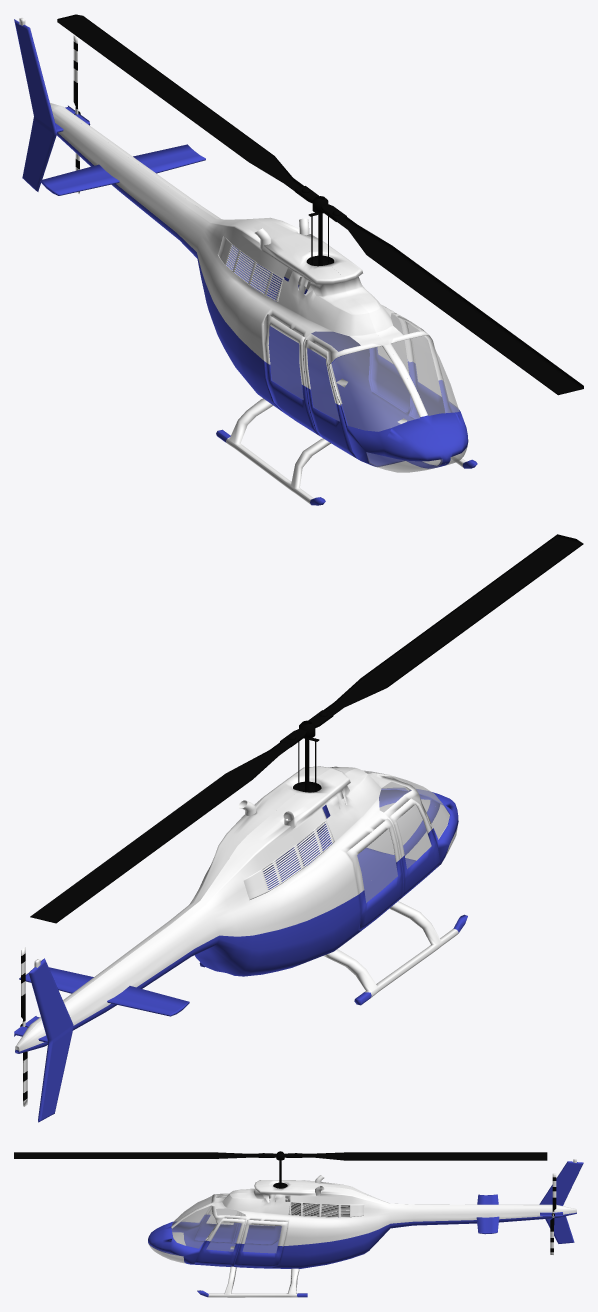
The model's file is uploads_files_2739645_HelicopterOBJ.obj.
3 views of the same model, one above another, from view 1: azimuth 30°, elevation 25°; view 2: azimuth 150°, elevation 25°; view 3: azimuth 270°, elevation 25° (orthographic). The views are drawn at different scales.
Parts seen in each view (by area): view 1: Duplica_1_, ely_3_, bluepa_2_, Duplicate0, Duplica_2_, bluepaint, whitepa_5_, Duplica_4_, gl_3_, Duplicate1, Duplica_8_, Duplica_9_ (+5 smaller); view 2: Duplica_1_, ely_3_, Duplicate0, bluepaint, whitepa_5_, Duplica_4_, bluepa_2_, Duplica_8_, Duplicate1, Duplica_9_, Duplica_5_, gl_2_ (+3 smaller); view 3: whitepa_5_, bluepa_2_, ely_3_, bluepaint, gl_1_, Duplicate0, gl_3_, Duplica_1_, default, whitepa_2_, Duplica_9_, bluepa_1_ (+7 smaller).
Part boxes in pixels (x1,y1,x2,y2): Duplica_1_: (50, 104, 424, 417); ely_3_: (57, 14, 583, 395); bluepa_2_: (133, 144, 468, 467); Duplicate0: (40, 132, 446, 468); Duplica_2_: (330, 346, 419, 431); bluepaint: (14, 19, 477, 468); whitepa_5_: (50, 103, 443, 415); Duplica_4_: (268, 326, 339, 421); gl_3_: (391, 335, 459, 415); Duplicate1: (226, 398, 330, 504); Duplica_8_: (218, 235, 284, 302); Duplica_9_: (65, 105, 325, 505); Duplica_1_: (17, 768, 433, 1051); ely_3_: (30, 534, 583, 923); Duplicate0: (17, 790, 458, 1053); bluepaint: (28, 847, 300, 1122); whitepa_5_: (15, 766, 410, 1050); Duplica_4_: (357, 805, 431, 902); bluepa_2_: (15, 788, 436, 1053); Duplica_8_: (243, 820, 334, 899); Duplicate1: (323, 901, 458, 997); Duplica_9_: (14, 860, 467, 1036); Duplica_5_: (401, 830, 439, 897); gl_2_: (367, 799, 429, 854); whitepa_5_: (171, 1184, 576, 1246); bluepa_2_: (148, 1212, 576, 1268); ely_3_: (14, 1152, 547, 1160); bluepaint: (197, 1161, 583, 1297); gl_1_: (206, 1222, 281, 1253); Duplicate0: (148, 1194, 498, 1253); gl_3_: (171, 1206, 216, 1248); Duplica_1_: (171, 1180, 576, 1226); default: (288, 1202, 364, 1217); whitepa_2_: (208, 1266, 299, 1297); Duplica_9_: (234, 1212, 562, 1244); bluepa_1_: (194, 1241, 238, 1265).
Size of the model in its own units: 54.71 by 78.38 by 324.
